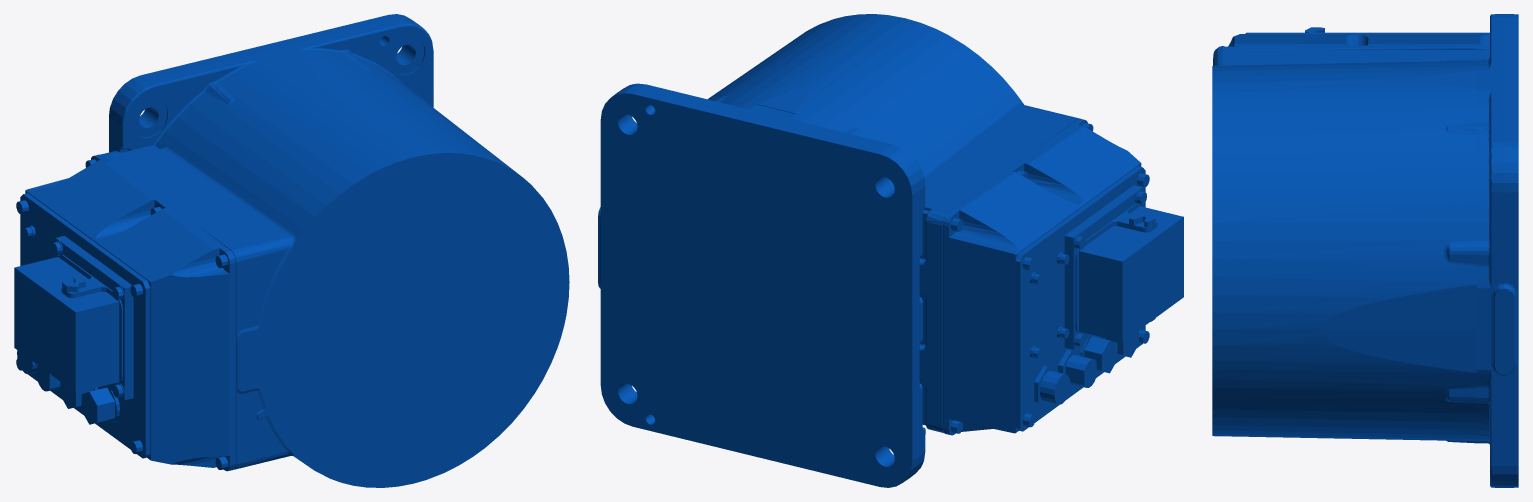
3 renders of one model, left to right at view 1: azimuth 30°, elevation 25°; view 2: azimuth 150°, elevation 25°; view 3: azimuth 270°, elevation 25°, orthographic. The views are drawn at different scales.
Bounding box in the file's own units: 0.2917 × 0.199 × 0.1605.
